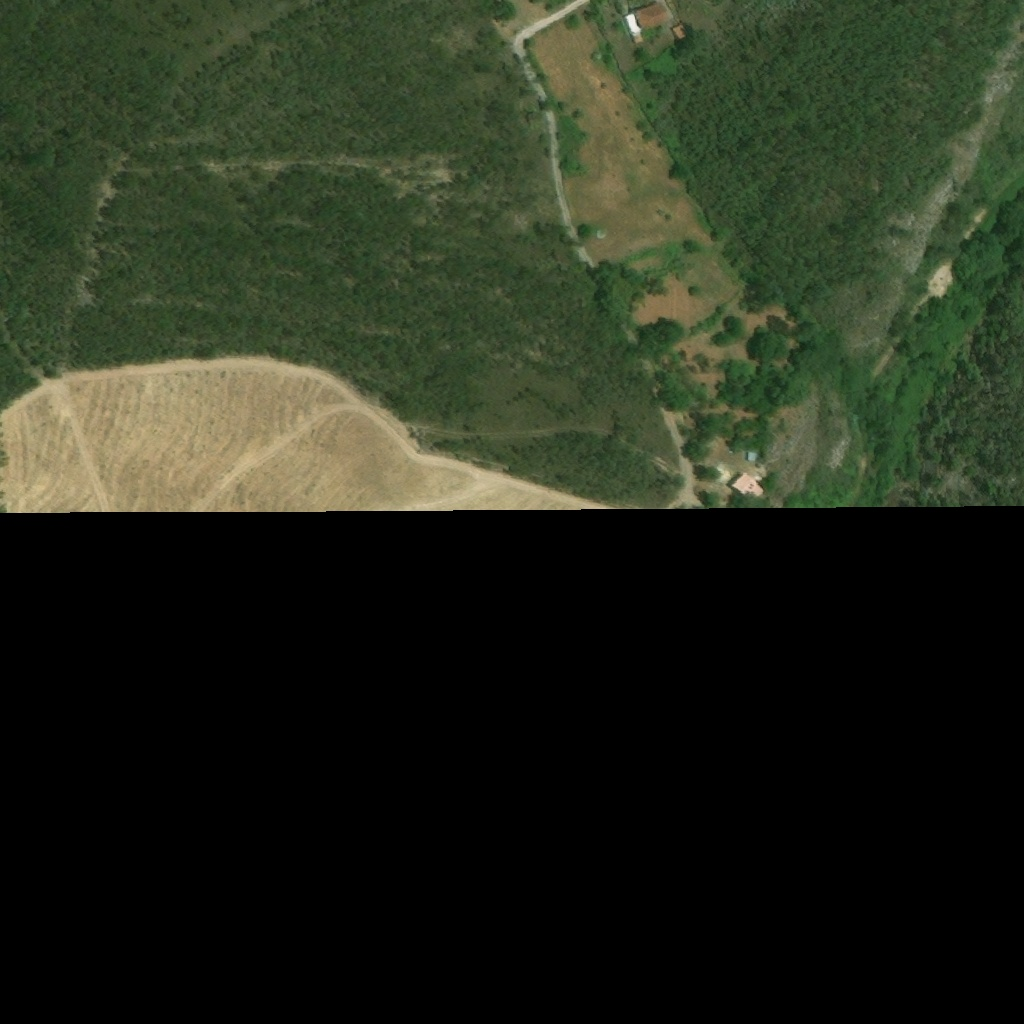0 no-damage: (634, 2, 669, 32), (731, 471, 758, 496), (624, 14, 643, 41), (673, 24, 688, 40), (632, 36, 644, 46)
